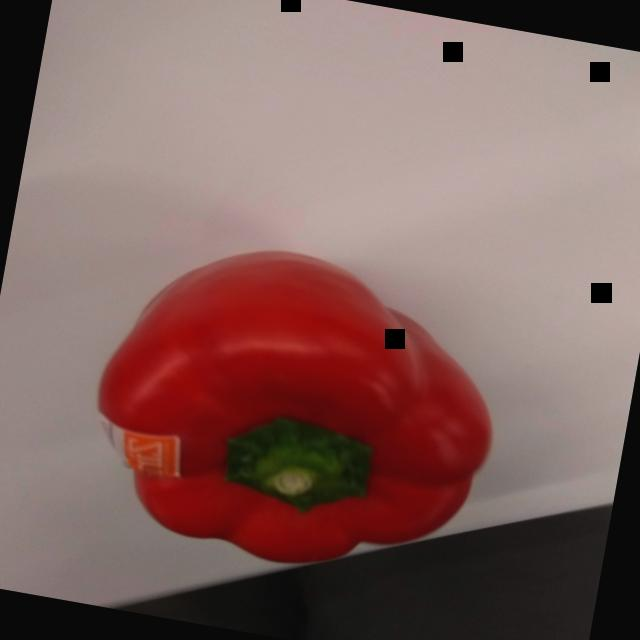paprika: (68, 213, 533, 601)
